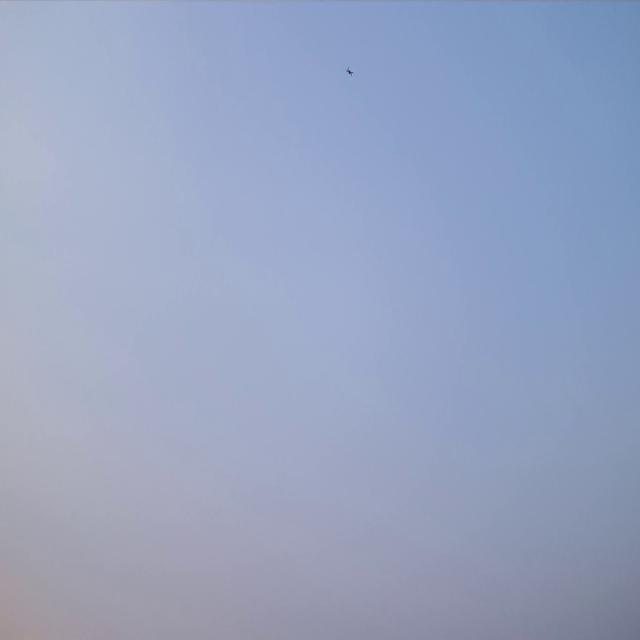UAV: (347, 68, 353, 74)
